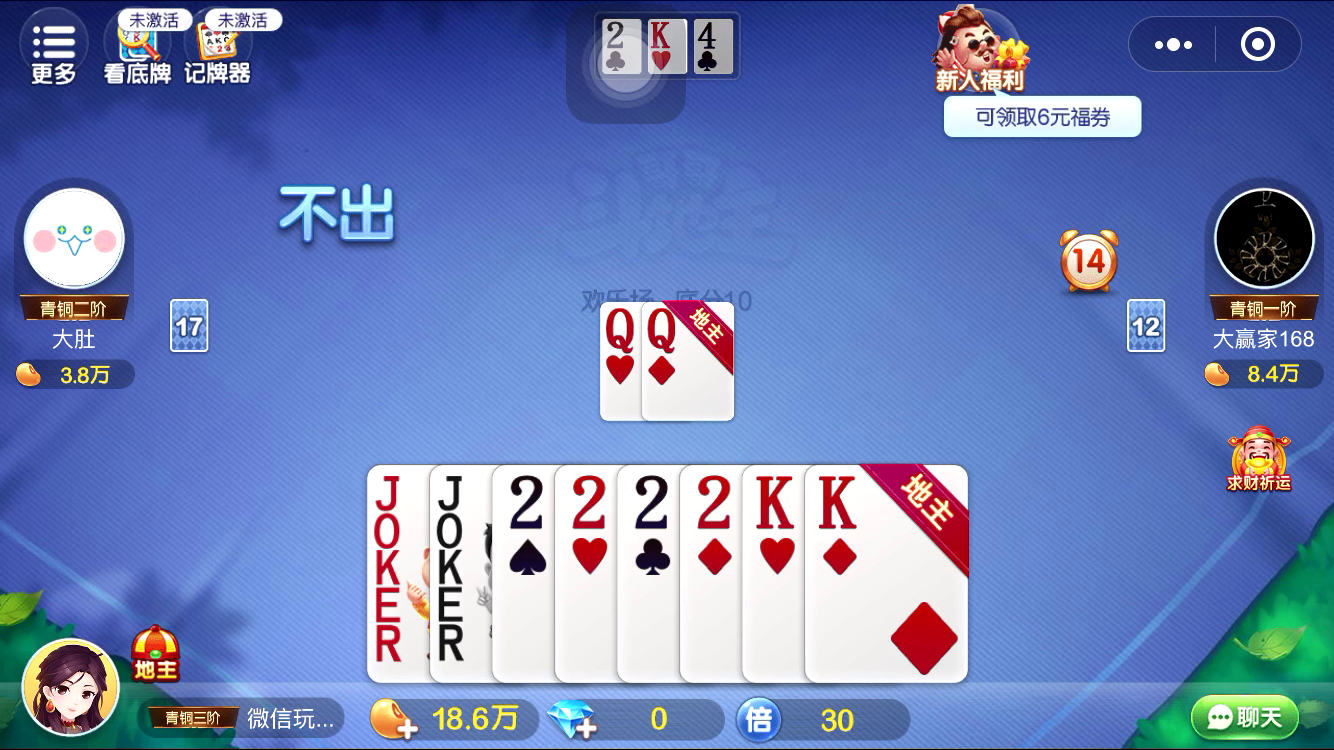JOKER: (362, 466, 418, 595)
K: (811, 469, 868, 540), (747, 468, 803, 538), (644, 15, 678, 50)
Q: (642, 303, 688, 358), (600, 303, 640, 356)
four: (690, 20, 722, 54)
joker: (429, 470, 474, 592)
two: (498, 470, 554, 540), (623, 471, 678, 541), (686, 471, 741, 539), (560, 472, 614, 538), (603, 21, 634, 55)
